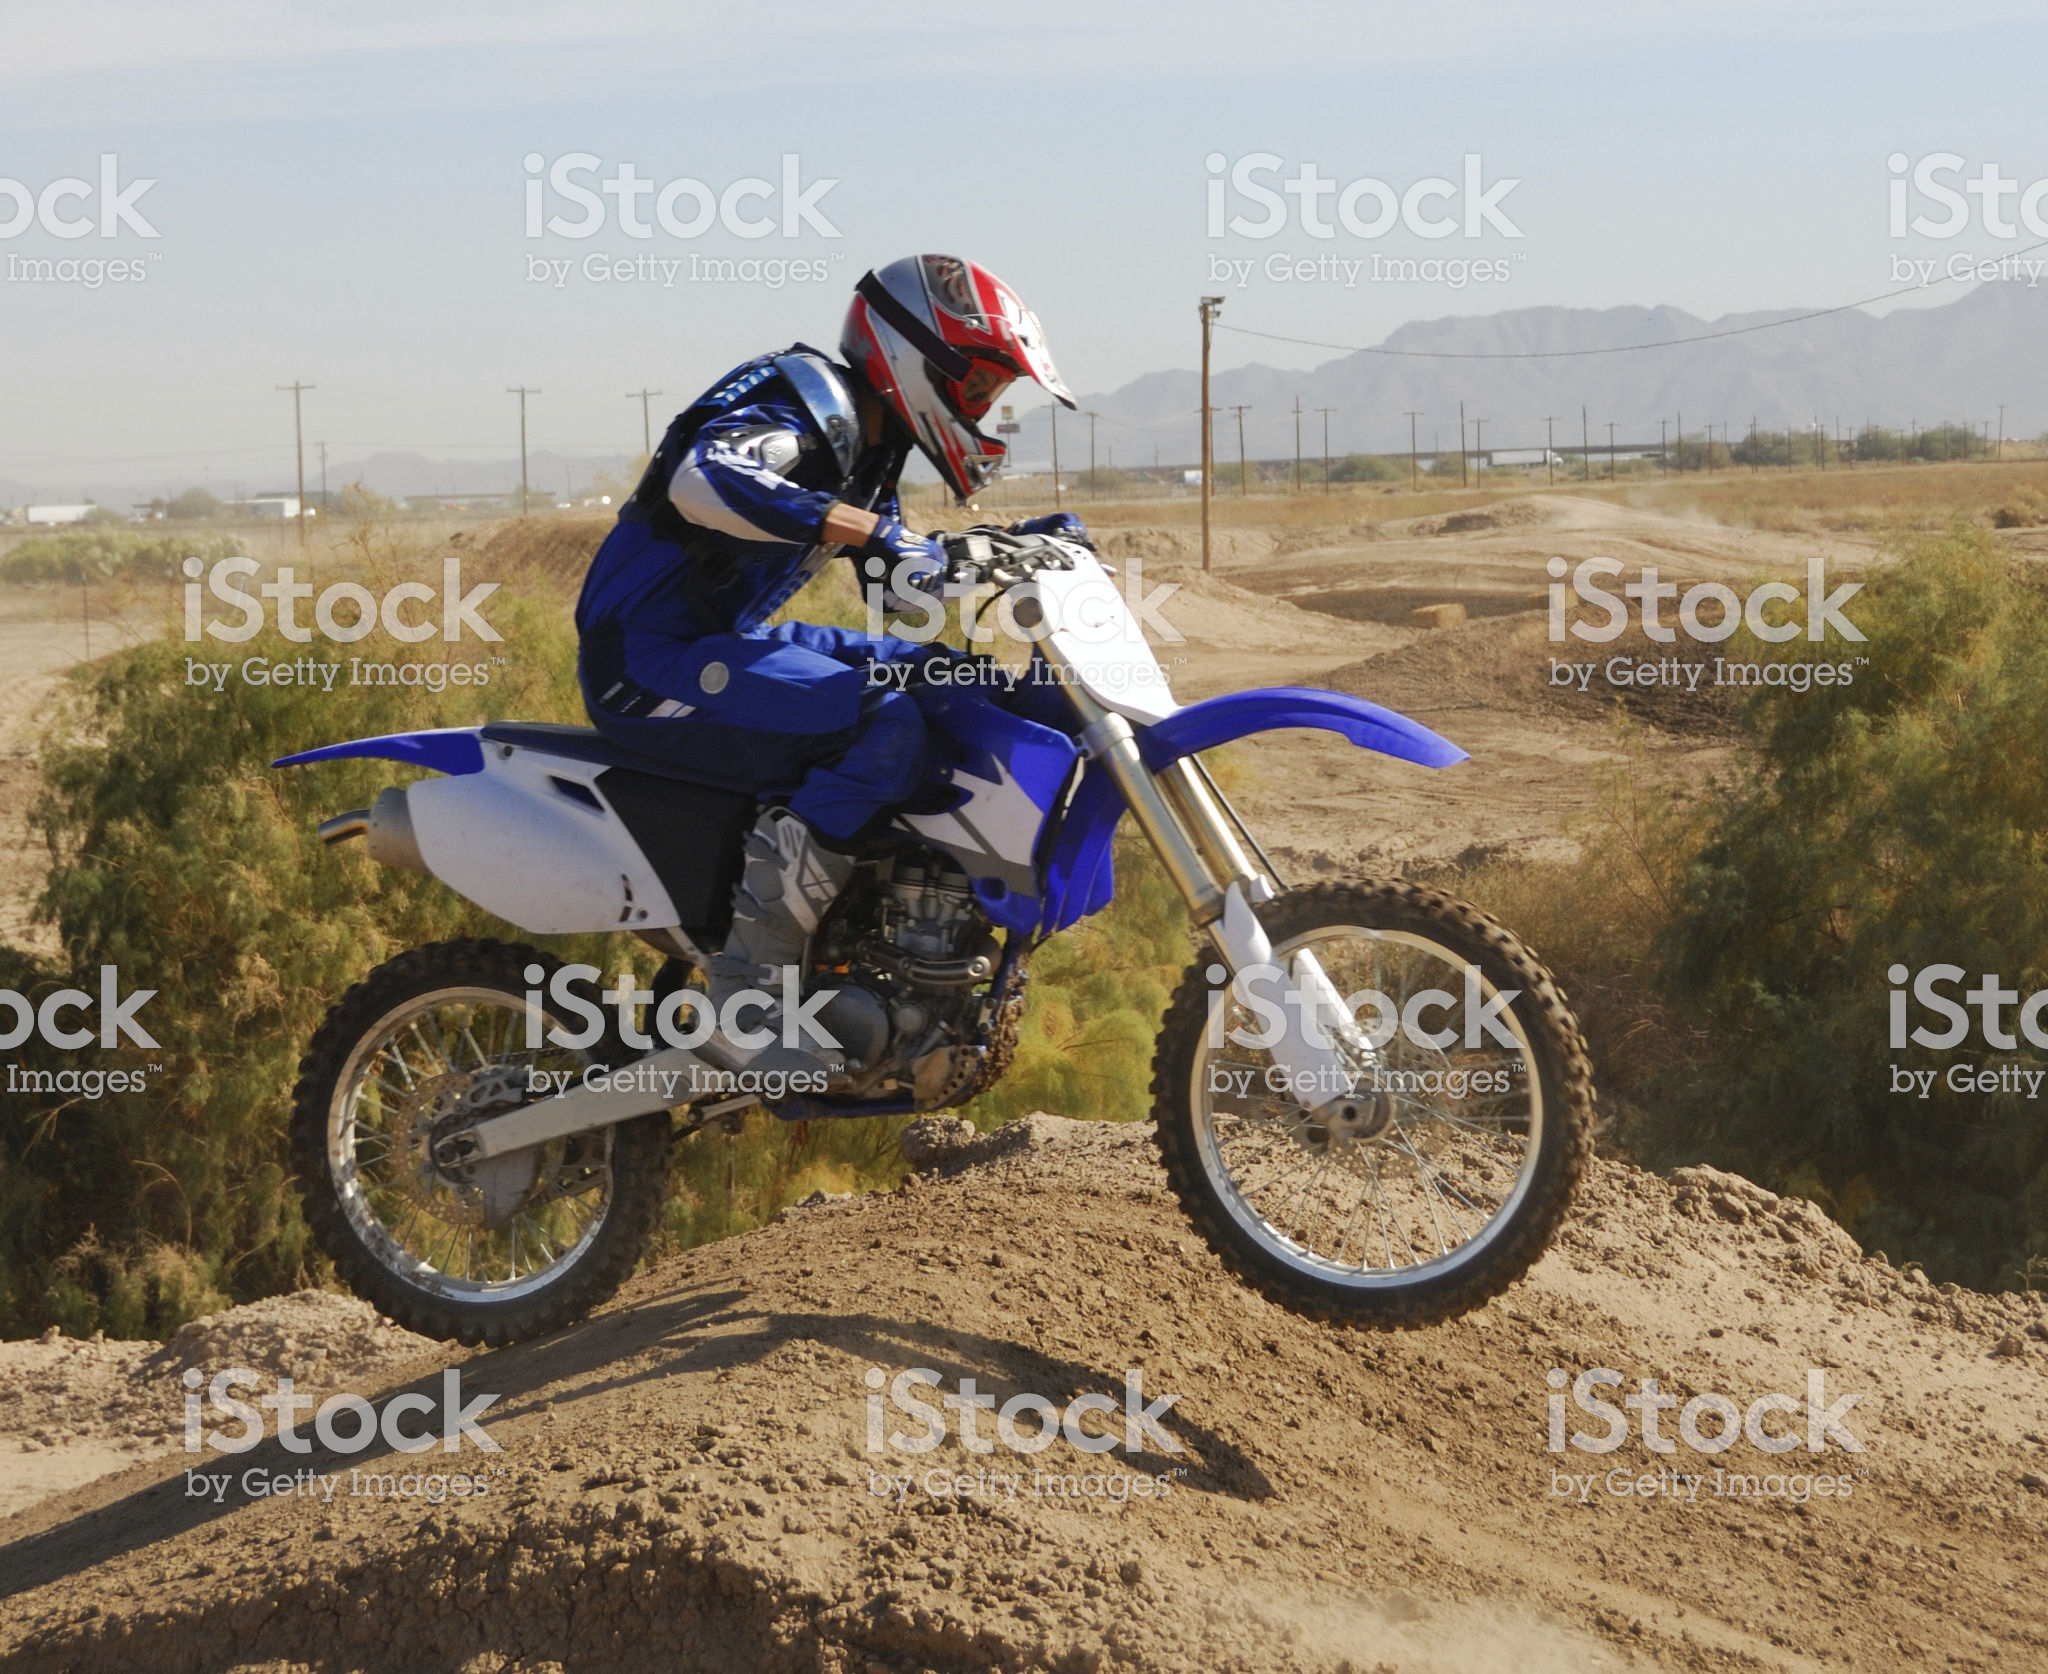helmet: (842, 243, 1080, 481)
